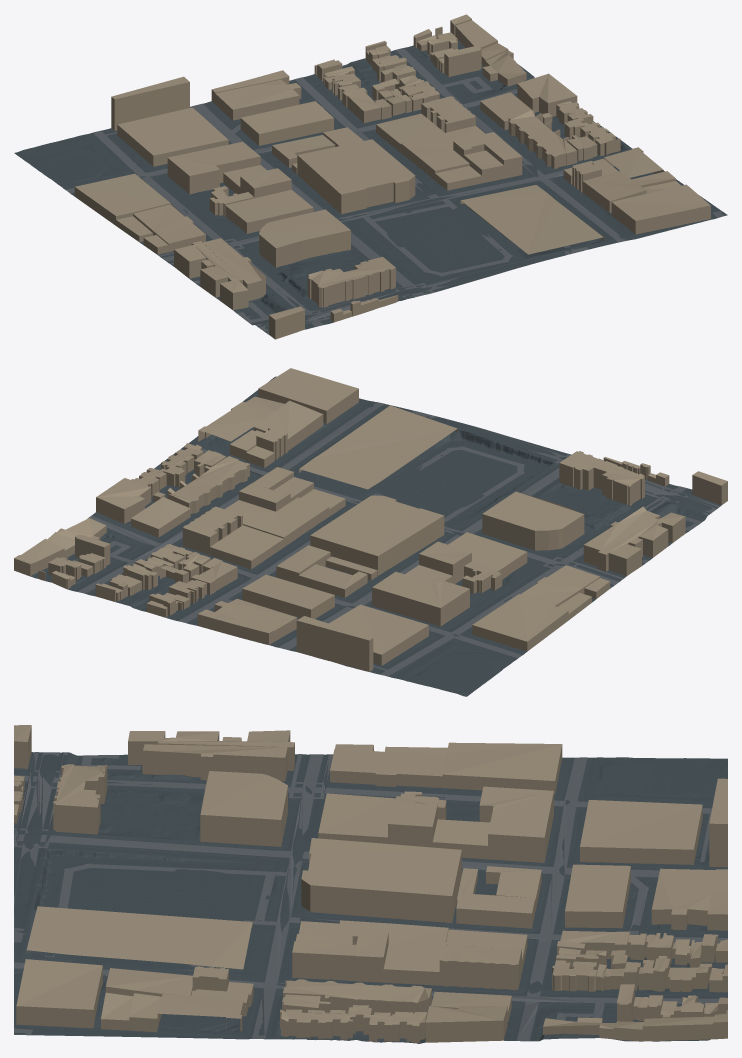
The model's file is epsg26910-1437-10884.lod0.glb.
3 views of the same model, one above another, from view 1: azimuth 30°, elevation 25°; view 2: azimuth 150°, elevation 25°; view 3: azimuth 270°, elevation 25° (orthographic). The views are drawn at different scales.
Visible parts, largest first — view 1: epsg26910-1437-10884-lod0; view 2: epsg26910-1437-10884-lod0; view 3: epsg26910-1437-10884-lod0.
Boxes of the visible parts, x1=… form: epsg26910-1437-10884-lod0: x1=14, y1=14, x2=727, y2=339; epsg26910-1437-10884-lod0: x1=14, y1=368, x2=727, y2=696; epsg26910-1437-10884-lod0: x1=14, y1=725, x2=727, y2=1043.
Bounding box in the file's own units: 384 × 28.37 × 384.
